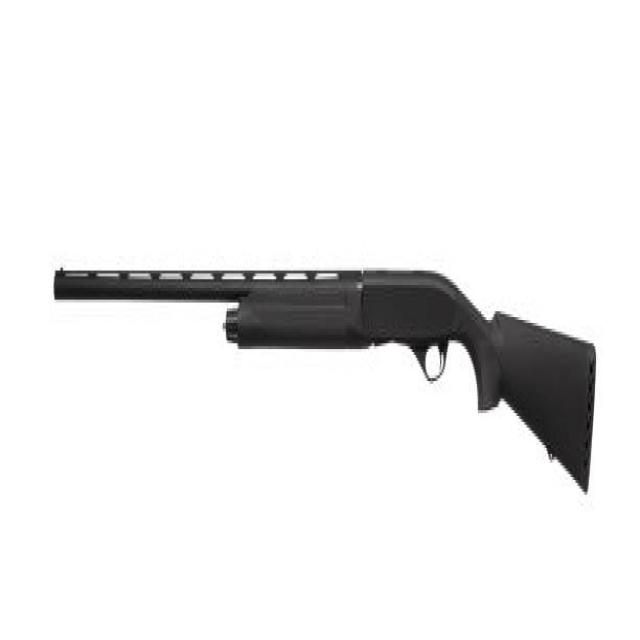rifle: (48, 247, 602, 522)
